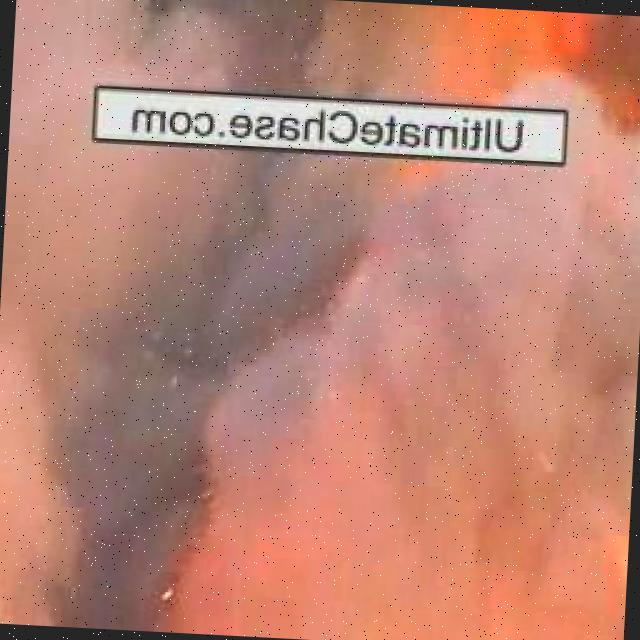Fire: (362, 2, 640, 222), (198, 469, 331, 640), (540, 499, 626, 640)
